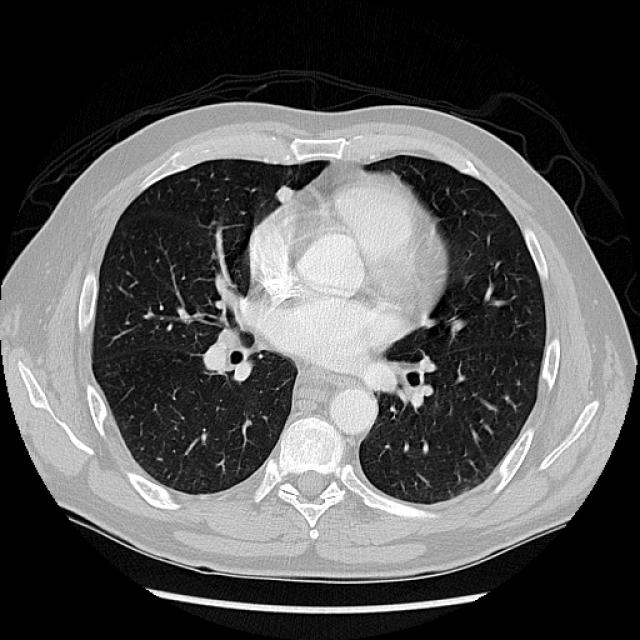nodule: (264, 175, 301, 213)
